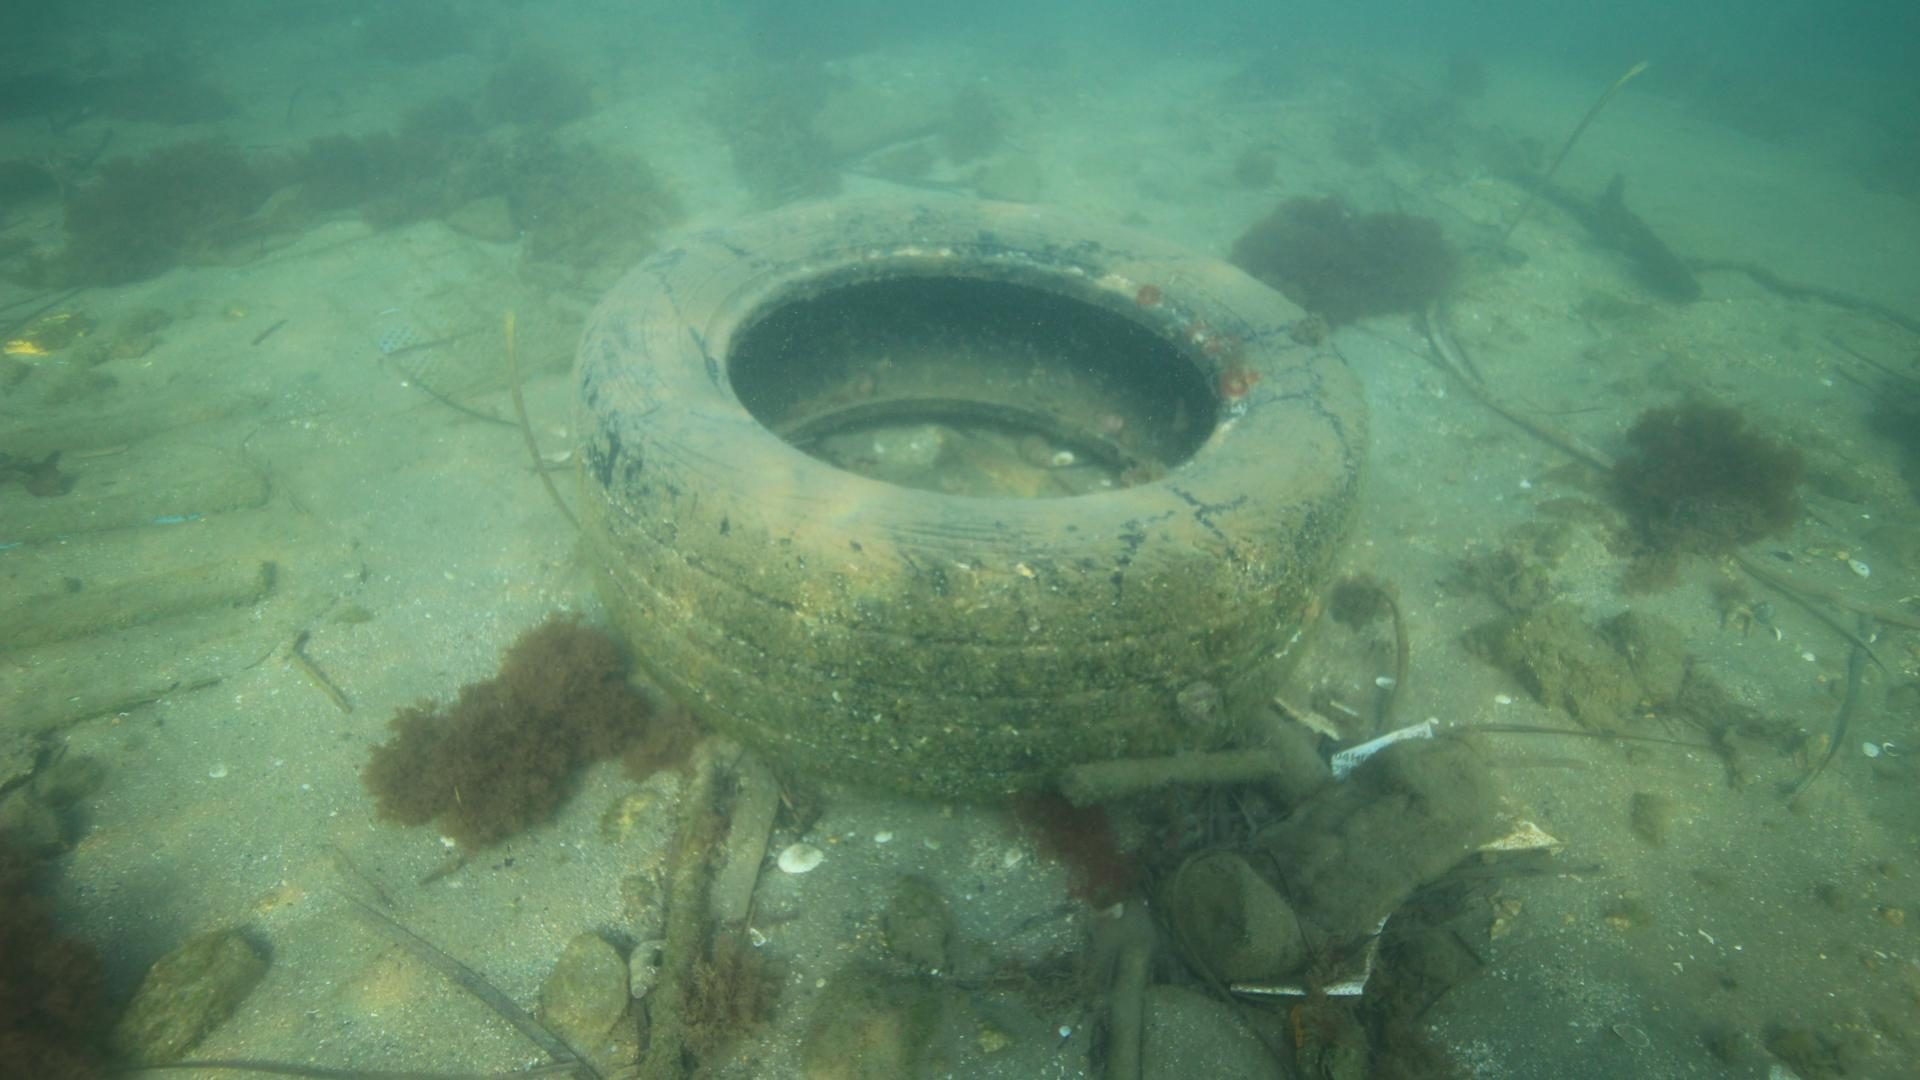rope: (642, 736, 719, 1079)
tire: (568, 198, 1366, 798)
